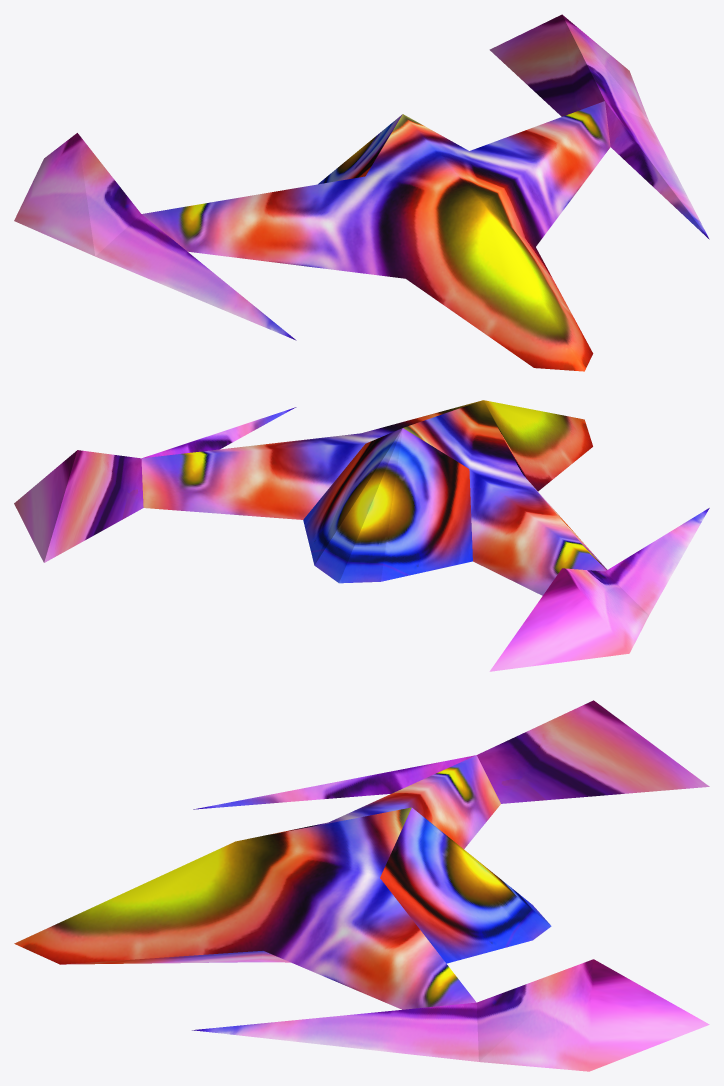
File: ship-35.fbx
3 renders of one model, top to bottom at view 1: azimuth 30°, elevation 25°; view 2: azimuth 150°, elevation 25°; view 3: azimuth 270°, elevation 25°, orthographic. The views are drawn at different scales.
Visible parts, largest first — view 1: ship-35; view 2: ship-35; view 3: ship-35.
Part boxes in pixels (box(x1,y1,x2,y2)): ship-35: box(14, 14, 709, 371); ship-35: box(14, 400, 709, 671); ship-35: box(14, 700, 709, 1071).
Bounding box in the file's own units: 67.1 × 14.73 × 60.03.
